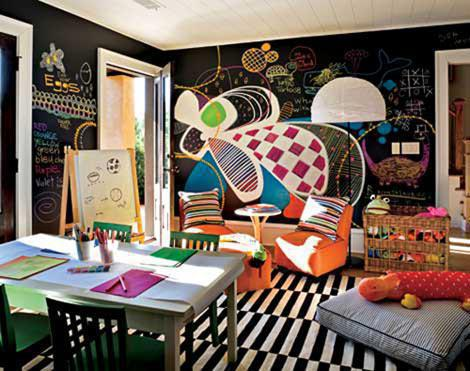Otro Obstaculo: (326, 259, 461, 363), (66, 140, 147, 238), (361, 200, 452, 274)
